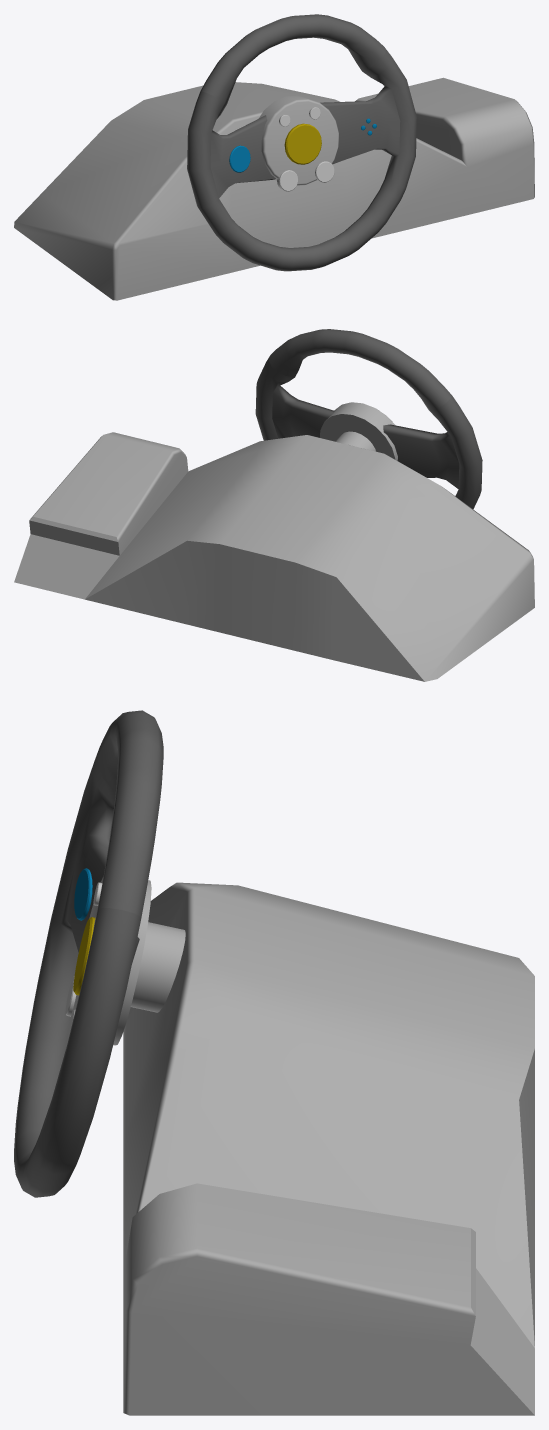
Rendered from Car_Wheel 1.fbx.
The picture shows the model from 3 angles, top to bottom: view 1: azimuth 30°, elevation 25°; view 2: azimuth 150°, elevation 25°; view 3: azimuth 270°, elevation 25°; orthographic projection. The views are drawn at different scales.
Parts seen in each view (by area): view 1: polySurface363; view 2: polySurface363; view 3: polySurface363.
Boxes of the visible parts, left/top/right/bottom form: polySurface363: left=14, top=14, right=534, bottom=300; polySurface363: left=14, top=329, right=534, bottom=681; polySurface363: left=14, top=710, right=534, bottom=1415.
Bounding box in the file's own units: 71.03 × 37.97 × 39.53.
